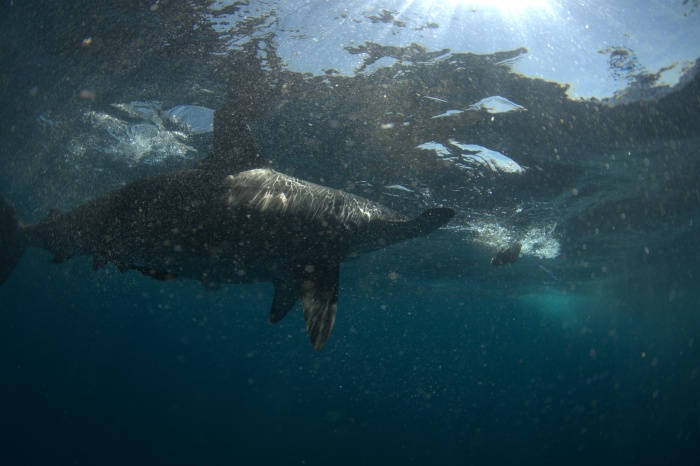Hammer: (1, 74, 457, 369)
